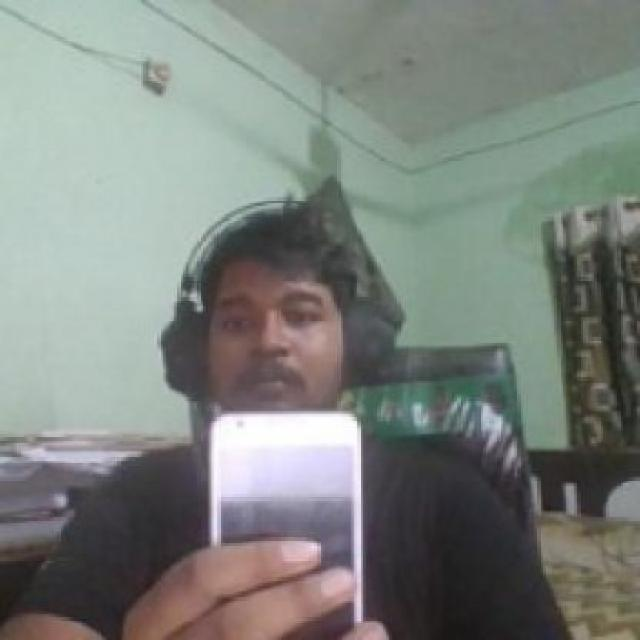Phone: (209, 408, 365, 636)
